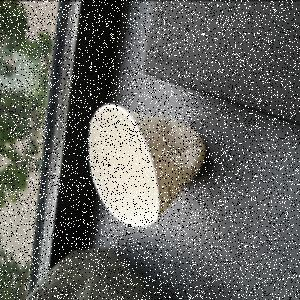Cup: (89, 103, 208, 229)
